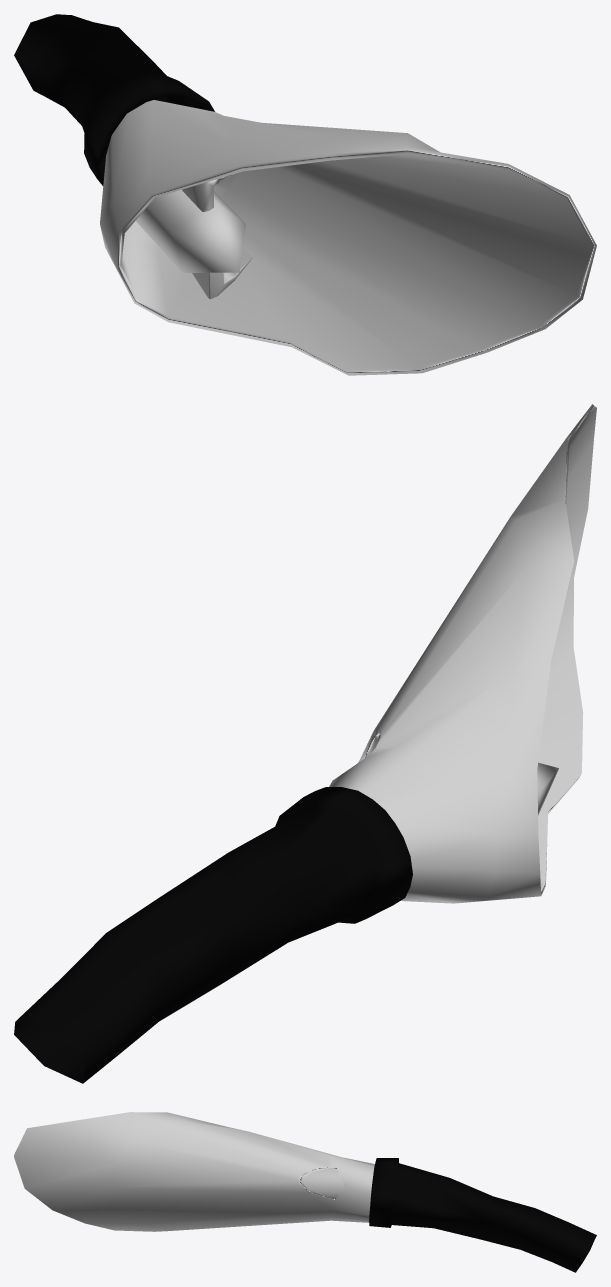
Rendered from NeroIden3.fbx.
The picture shows the model from 3 angles, top to bottom: view 1: azimuth 30°, elevation 25°; view 2: azimuth 150°, elevation 25°; view 3: azimuth 270°, elevation 25°; orthographic projection. The views are drawn at different scales.
Visible parts, largest first — view 1: LOD_1_Group_0_Sub_1__m000__Character_Default3, LOD_1_Group_0_Sub_2__tube; view 2: LOD_1_Group_0_Sub_1__m000__Character_Default3, LOD_1_Group_0_Sub_2__tube; view 3: LOD_1_Group_0_Sub_1__m000__Character_Default3, LOD_1_Group_0_Sub_2__tube.
Part boxes in pixels (bbox=[...]): LOD_1_Group_0_Sub_1__m000__Character_Default3: bbox=[100, 100, 596, 375]; LOD_1_Group_0_Sub_2__tube: bbox=[14, 14, 214, 185]; LOD_1_Group_0_Sub_1__m000__Character_Default3: bbox=[329, 404, 596, 903]; LOD_1_Group_0_Sub_2__tube: bbox=[14, 787, 412, 1083]; LOD_1_Group_0_Sub_1__m000__Character_Default3: bbox=[14, 1112, 374, 1231]; LOD_1_Group_0_Sub_2__tube: bbox=[369, 1158, 596, 1272].
Bounding box in the file's own units: 49.69 × 52.86 × 193.
